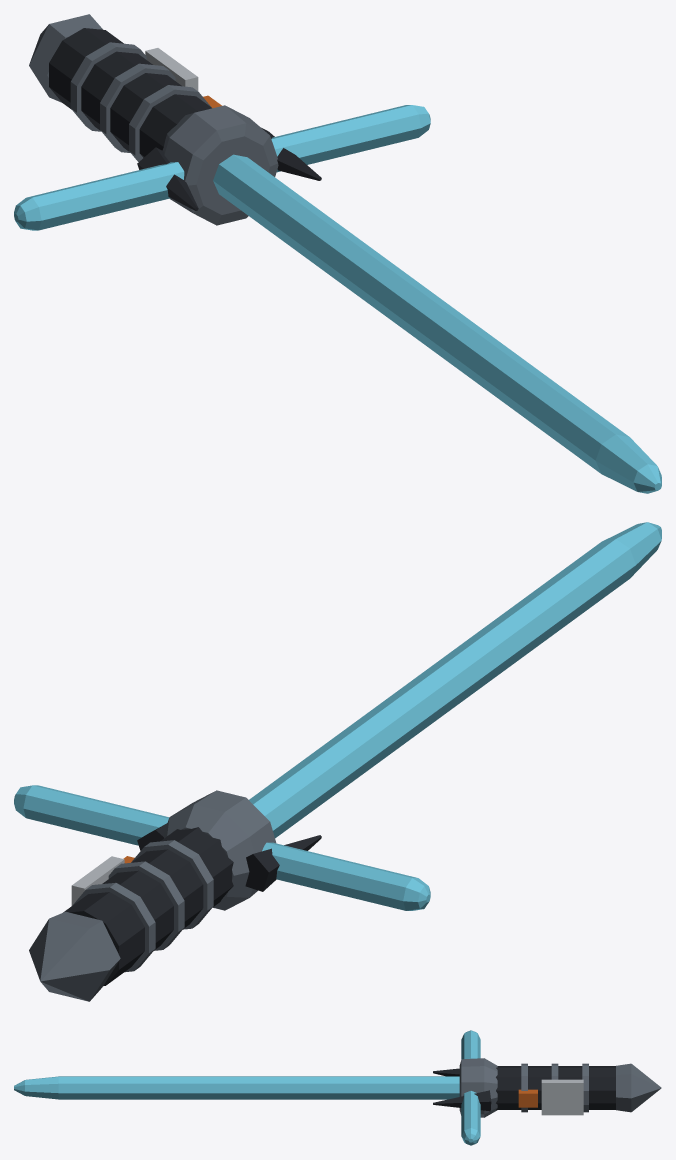
The model's file is saber-cross.glb.
3 views of the same model, one above another, from view 1: azimuth 30°, elevation 25°; view 2: azimuth 150°, elevation 25°; view 3: azimuth 270°, elevation 25° (orthographic). The views are drawn at different scales.
Visible parts, largest first — view 1: m; view 2: m; view 3: m.
Part boxes in pixels (<box>): m: <box>14,14,661,493</box>; m: <box>14,522,661,1001</box>; m: <box>14,1030,661,1145</box>.
Bounding box in the file's own units: 0.1065 × 0.0244 × 0.2766.
